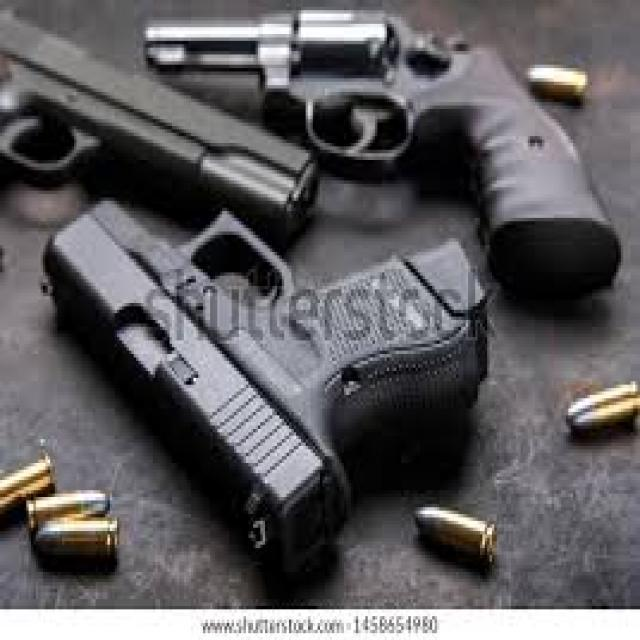semi automatic: (35, 2, 626, 602)
